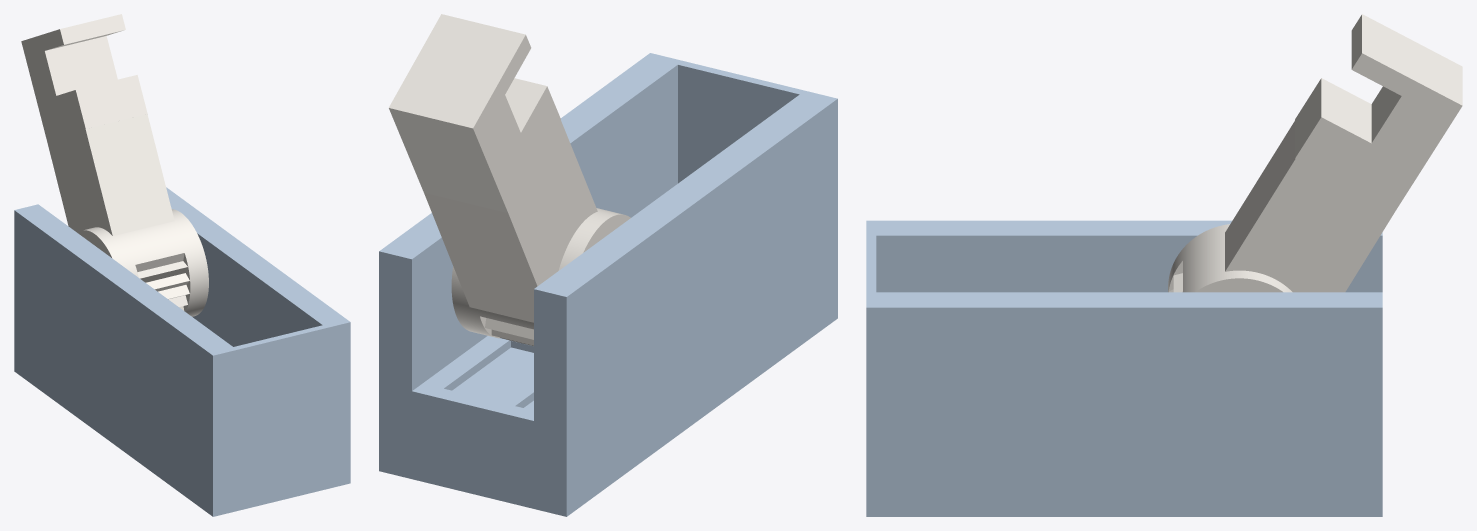
The picture shows the model from 3 angles, left to right: view 1: azimuth 30°, elevation 25°; view 2: azimuth 150°, elevation 25°; view 3: azimuth 270°, elevation 25°; orthographic projection. The views are drawn at different scales.
Visible parts, largest first — view 1: connector, moving; view 2: connector, moving; view 3: connector, moving.
Part boxes in pixels (box(x1,y1,x2,y2)): connector: box(14, 187, 350, 516); moving: box(21, 14, 208, 316); connector: box(379, 53, 837, 516); moving: box(389, 14, 630, 346); connector: box(866, 220, 1382, 516); moving: box(1168, 14, 1462, 292).
Size of the model in its own units: 17.86 by 42.02 by 51.64.
